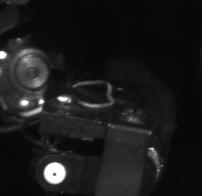fiber: (41, 159, 71, 187)
